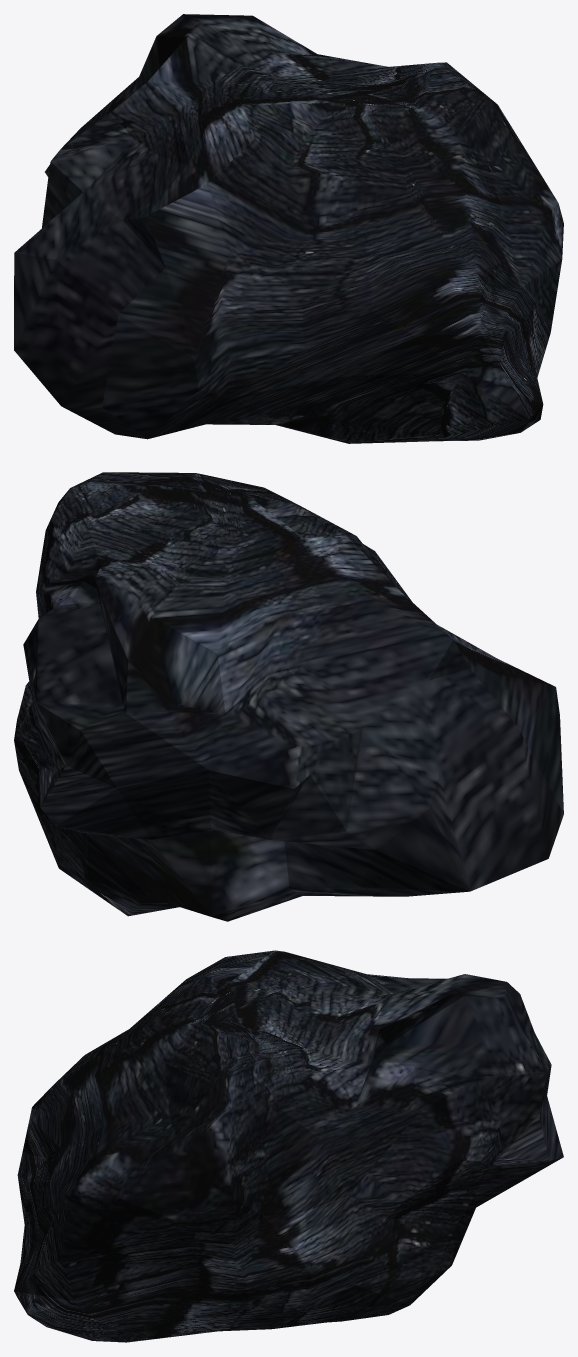
The model's file is Coal.fbx.
The picture shows the model from 3 angles, top to bottom: view 1: azimuth 30°, elevation 25°; view 2: azimuth 150°, elevation 25°; view 3: azimuth 270°, elevation 25°; orthographic projection. The views are drawn at different scales.
Visible parts, largest first — view 1: Сфера; view 2: Сфера; view 3: Сфера.
Part boxes in pixels (x1=…): Сфера: x1=14, y1=14, x2=563, y2=443; Сфера: x1=14, y1=472, x2=563, y2=921; Сфера: x1=14, y1=950, x2=563, y2=1342.
Bounding box in the file's own units: 322 × 220 × 337.
1 material, 1 textured.
